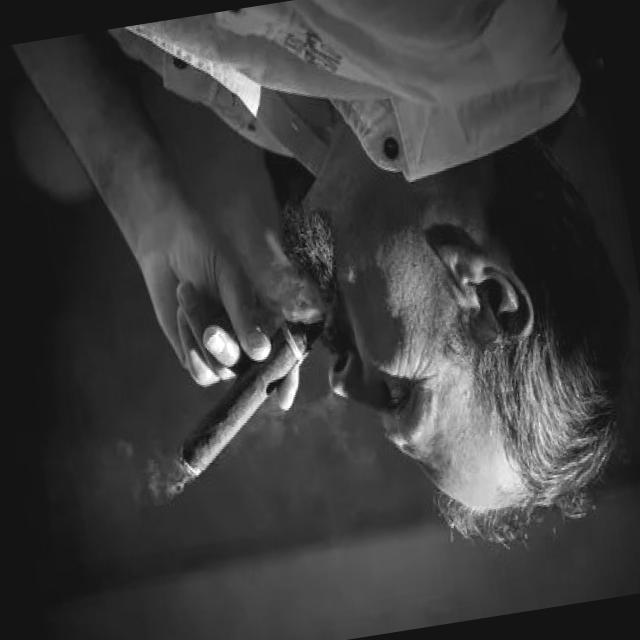cigarette: (152, 304, 355, 490)
